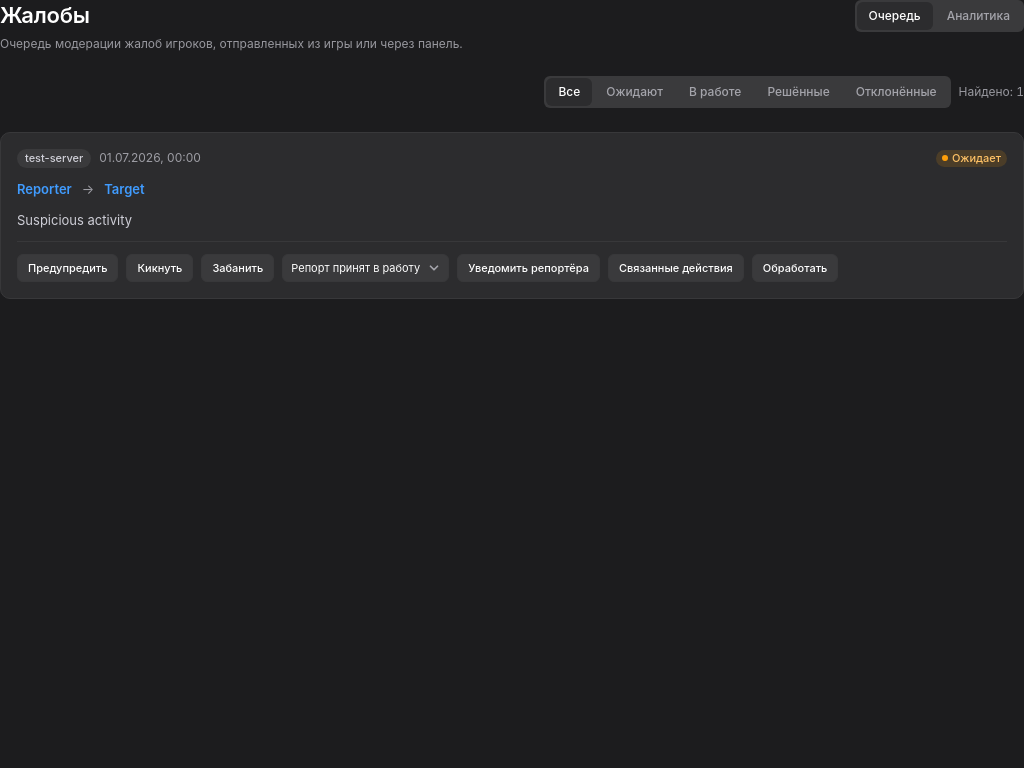
Test: ReportsBrowser ALT-7 ban warning › shows the permission-safe warning when IP details are unavailable
Click the button "Забанить" at (238, 268), box 201,254 -> 274,282
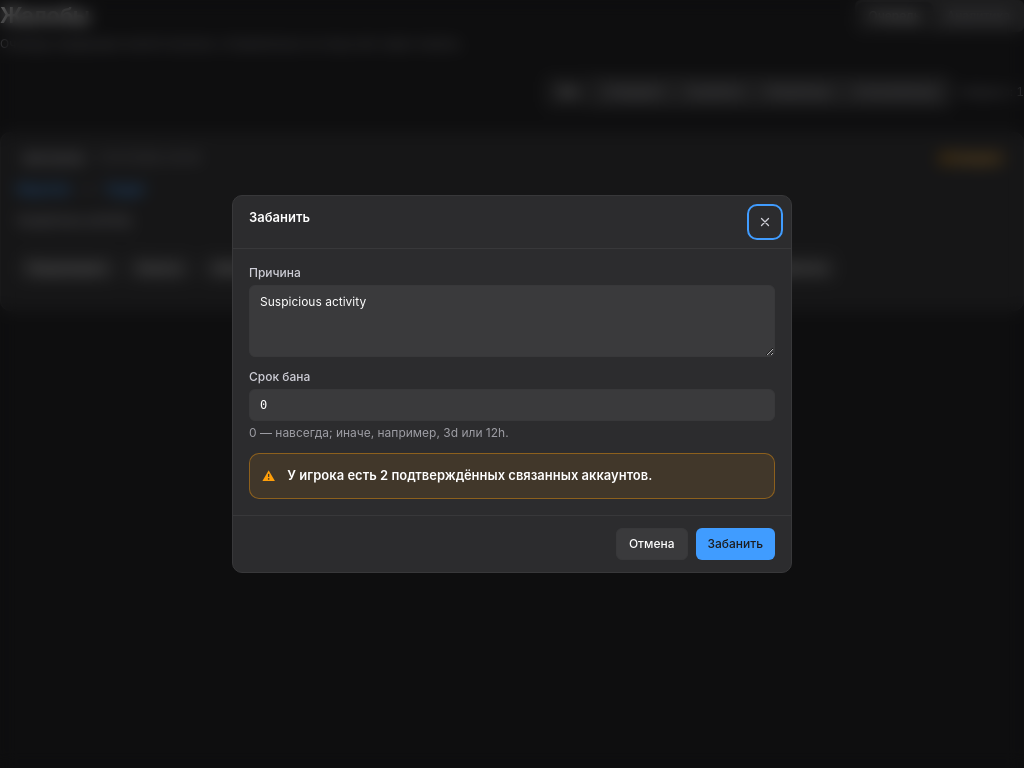
Result: the text "У игрока есть 2 подтверждённых связанных аккаунтов." is shown at 287,467 -> 652,483
